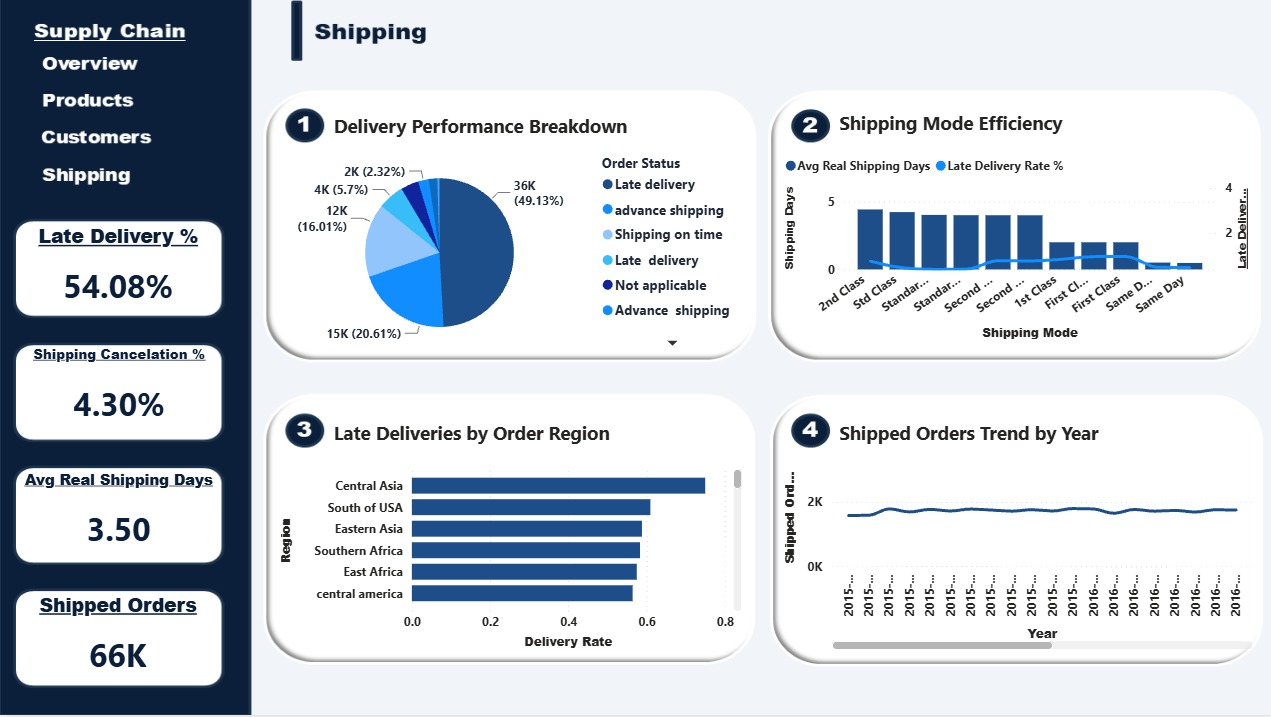

What the dashboard file says about the page in this screenshot:
{"tool":"powerbi","page":{"name":"Shipping","canvas":[1280,720],"ordinal":3},"visuals":[{"type":"cardVisual","title":"Late Delivery %","fields":{"Data":["Gold FactOrders.Late Delivery Rate %"]},"box":[20.4,226.1,199.2,97.1],"z":0},{"type":"cardVisual","title":"Shipping Cancelation %","fields":{"Data":["Gold FactOrders.Shipping Cancellation Rate %"]},"box":[21.3,348,198.7,97.3],"z":1},{"type":"cardVisual","title":"Avg Real Shipping Days","fields":{"Data":["Gold FactOrders.Avg Real Shipping Days"]},"box":[20,473.3,200,96],"z":2},{"type":"cardVisual","title":"Shipped Orders","fields":{"Data":["Gold FactOrders.Shipped Orders"]},"box":[20,596,198.7,97.3],"z":3},{"type":"pieChart","fields":{"Category":["Gold FactOrders.delivery_performance"],"Y":["Gold FactOrders.Total Orders"]},"box":[273.3,152,476,208],"z":4},{"type":"textbox","box":[330.7,110.7,309.3,41.3],"z":5},{"type":"lineClusteredColumnComboChart","fields":{"Y":["Gold FactOrders.Avg Real Shipping Days"],"Y2":["Gold FactOrders.Late Delivery Rate %"],"Category":["Gold FactOrders.shipping_mode"]},"box":[782.7,149.3,478.7,200],"z":6},{"type":"textbox","box":[837.3,108,309.3,41.3],"z":7},{"type":"clusteredBarChart","fields":{"Category":["Gold FactOrders.order_region"],"Y":["Gold FactOrders.Late Delivery Rate %"]},"box":[277.3,460,472,198.7],"z":8},{"type":"textbox","box":[330.7,418.7,309.3,41.3],"z":9},{"type":"lineChart","fields":{"Category":["Gold DimDate.year_month"],"Y":["Gold FactOrders.Shipped Orders"]},"box":[782.7,460,478.7,198.7],"z":10},{"type":"textbox","box":[837.3,418.7,320,41.3],"z":11}]}

Visuals, with their boxes on the page's 1280x720 design canvas (x1, y1, x2, y2). These are canvas units, not pixel positions in the 1271x717 screenshot, which may show the page scaled, cropped or inside an application window:
"Late Delivery %" cardVisual: <region>20, 226, 220, 323</region>
"Shipping Cancelation %" cardVisual: <region>21, 348, 220, 445</region>
"Avg Real Shipping Days" cardVisual: <region>20, 473, 220, 569</region>
"Shipped Orders" cardVisual: <region>20, 596, 219, 693</region>
pieChart - Gold FactOrders.delivery_performance x Gold FactOrders.Total Orders: <region>273, 152, 749, 360</region>
textbox: <region>331, 111, 640, 152</region>
lineClusteredColumnComboChart - Gold FactOrders.Avg Real Shipping Days x Gold FactOrders.Late Delivery Rate %: <region>783, 149, 1261, 349</region>
textbox: <region>837, 108, 1147, 149</region>
clusteredBarChart - Gold FactOrders.order_region x Gold FactOrders.Late Delivery Rate %: <region>277, 460, 749, 659</region>
textbox: <region>331, 419, 640, 460</region>
lineChart - Gold DimDate.year_month x Gold FactOrders.Shipped Orders: <region>783, 460, 1261, 659</region>
textbox: <region>837, 419, 1157, 460</region>
